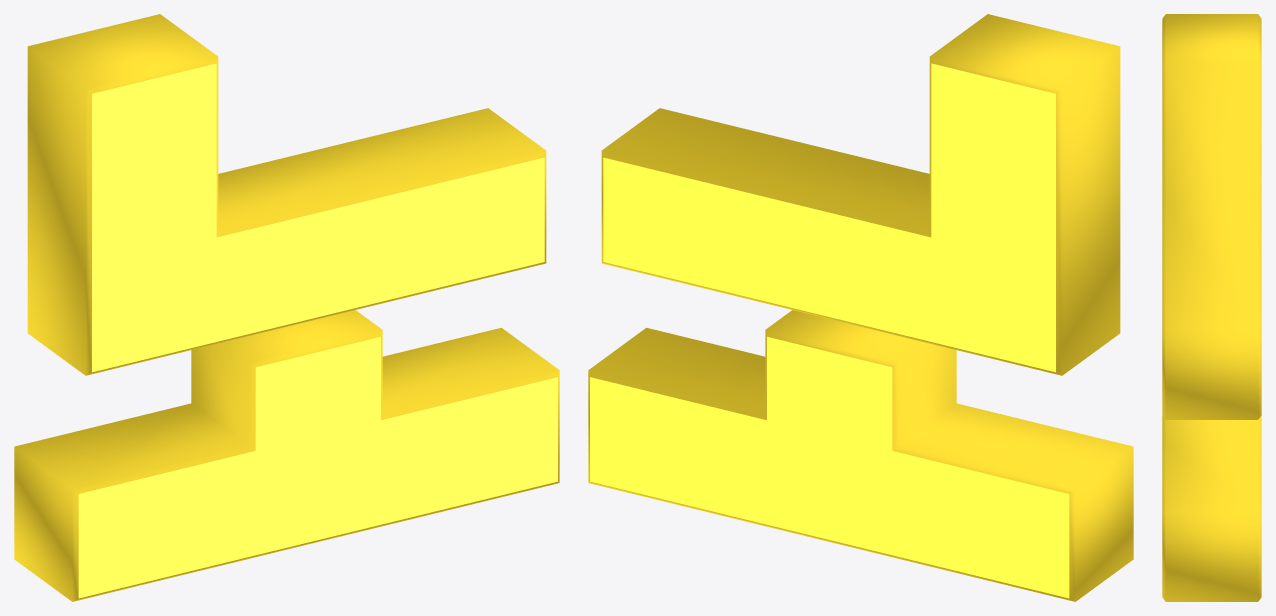
3 views of the same model, side by side, from view 1: azimuth 30°, elevation 25°; view 2: azimuth 150°, elevation 25°; view 3: azimuth 270°, elevation 25° (orthographic). The views are drawn at different scales.
Parts seen in each view (by area): view 1: glyph; view 2: glyph; view 3: glyph.
Boxes of the visible parts, box(x1,y1,x2,y2) form: glyph: box(14, 14, 559, 601); glyph: box(588, 14, 1133, 601); glyph: box(1162, 14, 1261, 601).
Bounding box in the file's own units: 0.0726 × 0.0726 × 0.0162.
